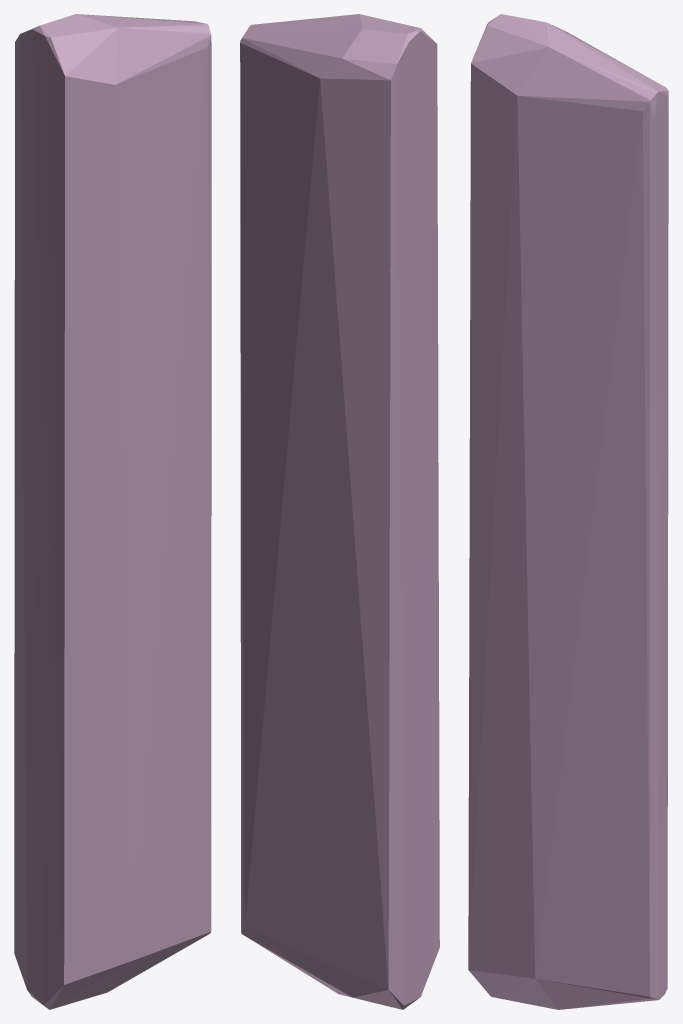
Rendered from suspension_endLink_adjustable_a01.glb.
The picture shows the model from 3 angles, left to right: view 1: azimuth 30°, elevation 25°; view 2: azimuth 150°, elevation 25°; view 3: azimuth 330°, elevation 25°; orthographic projection.
Parts seen in each view (by area): view 1: geometry_0; view 2: geometry_0; view 3: geometry_0.
Boxes of the visible parts, bbox=[...] form: geometry_0: bbox=[14, 14, 211, 1009]; geometry_0: bbox=[240, 14, 439, 1009]; geometry_0: bbox=[468, 14, 668, 1009].
Size of the model in its own units: 0.086 by 0.4797 by 0.0477.
